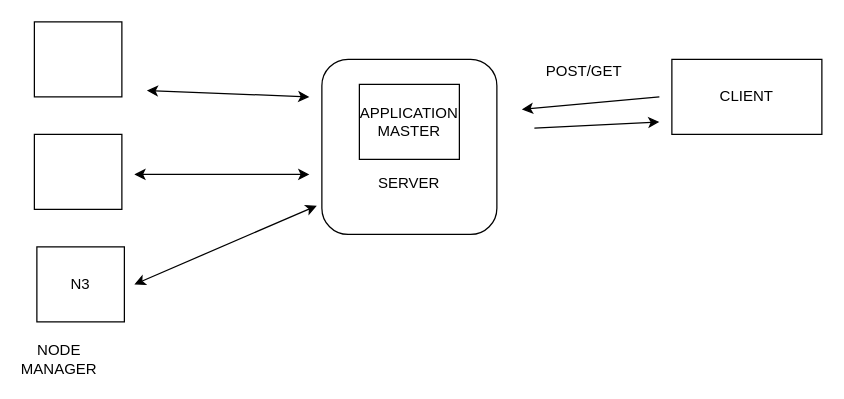
The diagram is 844 pixels wide and 399 high, and some of its shapes have lost their labels. Here are the shapes that lost their labels. From the top down, the centre of each, then its label:
At point 77,59: "N1".
At point 77,171: "N2".
